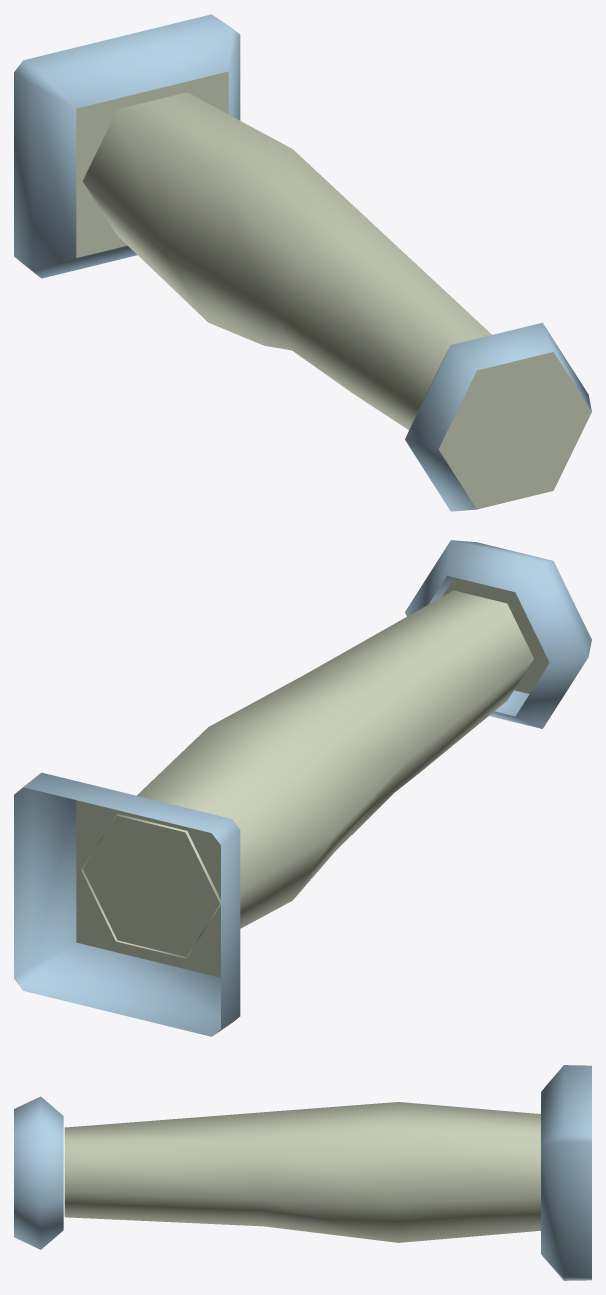
The picture shows the model from 3 angles, top to bottom: view 1: azimuth 30°, elevation 25°; view 2: azimuth 150°, elevation 25°; view 3: azimuth 270°, elevation 25°; orthographic projection. The views are drawn at different scales.
Visible parts, largest first — view 1: Object37; view 2: Object37; view 3: Object37.
Part boxes in pixels (bbox=[...]): Object37: bbox=[14, 14, 591, 511]; Object37: bbox=[14, 540, 591, 1036]; Object37: bbox=[14, 1065, 591, 1280].
Size of the model in its own units: 664 by 624 by 2206.
